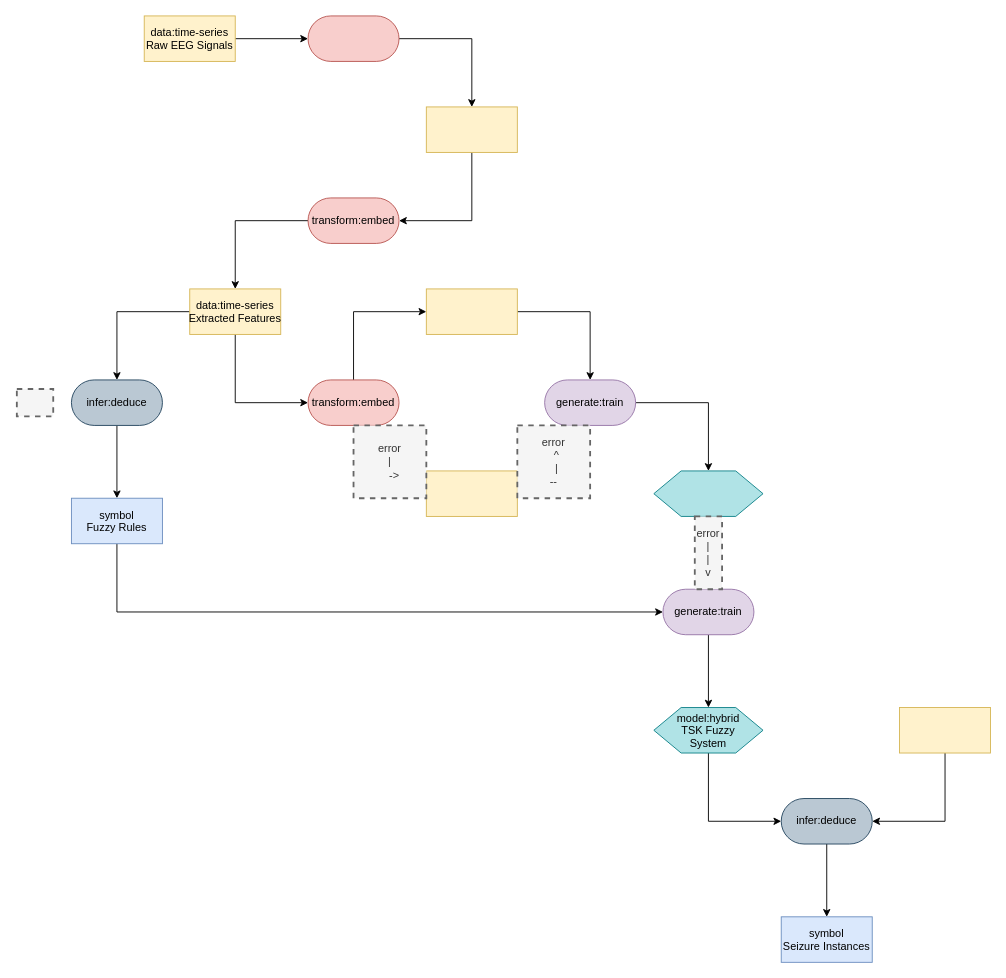
Some shapes in this 1006 by 978 pixel diagram are drawn without their labels. Each missing label, with the centre of its shape:
"data:time-series EEG Data" belongs at [945,730].
"data:time-series Labeled Data" belongs at [471,311].
"data:time-series Segmented EEG Signals" belongs at [471,129].
"data:time-series Unlabeled Data" belongs at [471,493].
"error" belongs at [34,402].
"model Classification Model" belongs at [708,493].
"transform" belongs at [353,38].
